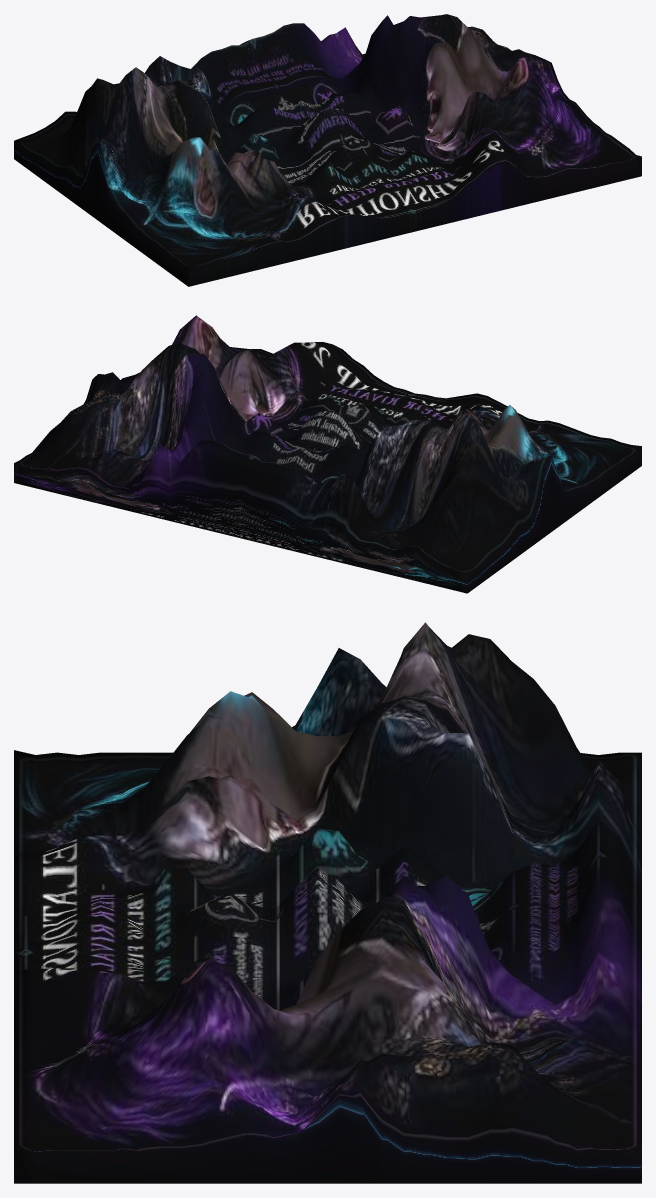
Rendered from RELATIONSHIP_26_Heir_Rivalry.glb.
3 views of the same model, one above another, from view 1: azimuth 30°, elevation 25°; view 2: azimuth 150°, elevation 25°; view 3: azimuth 270°, elevation 25° (orthographic). The views are drawn at different scales.
Parts seen in each view (by area): view 1: RELATIONSHIP_26_Heir_Rivalry; view 2: RELATIONSHIP_26_Heir_Rivalry; view 3: RELATIONSHIP_26_Heir_Rivalry.
Part boxes in pixels (x1=…): RELATIONSHIP_26_Heir_Rivalry: x1=14, y1=14, x2=641, y2=286; RELATIONSHIP_26_Heir_Rivalry: x1=14, y1=315, x2=641, y2=593; RELATIONSHIP_26_Heir_Rivalry: x1=14, y1=622, x2=641, y2=1183.
Size of the model in its own units: 2 by 0.51 by 1.33.
1 material, 1 textured.
